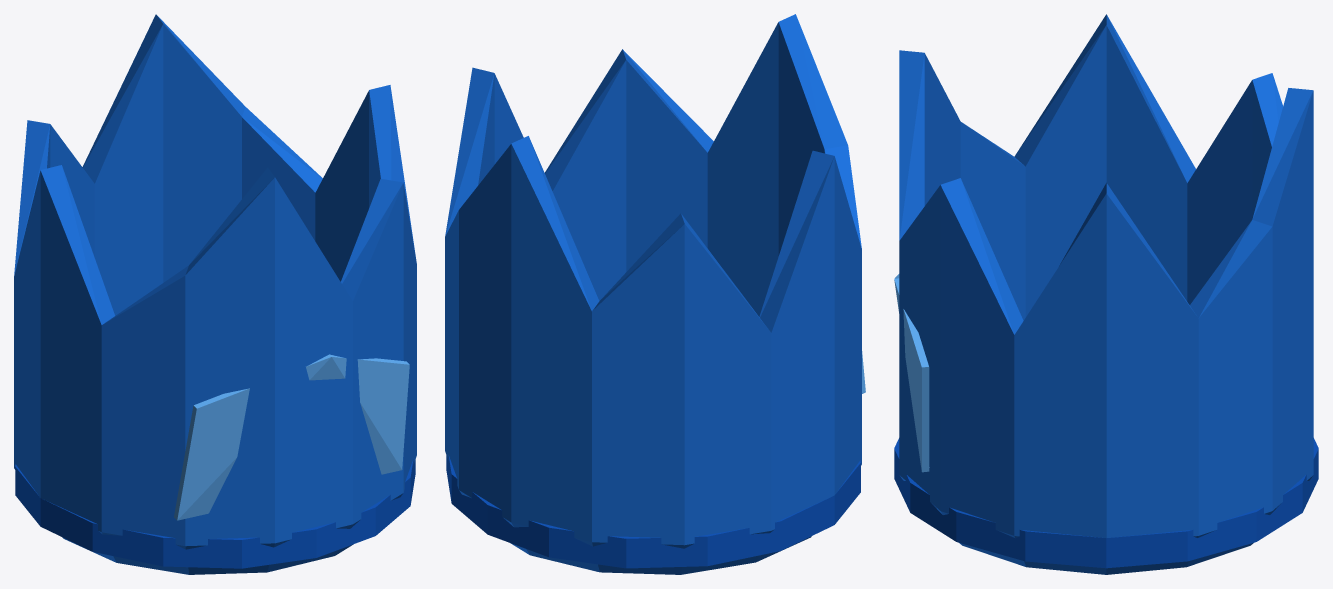
File: Glass_BrokenBottle.fbx
3 views of the same model, side by side, from view 1: azimuth 30°, elevation 25°; view 2: azimuth 150°, elevation 25°; view 3: azimuth 270°, elevation 25° (orthographic). The views are drawn at different scales.
Visible parts, largest first — view 1: Glass_BrokenBottle; view 2: Glass_BrokenBottle; view 3: Glass_BrokenBottle.
Boxes of the visible parts, bbox=[...] form: Glass_BrokenBottle: bbox=[14, 14, 416, 574]; Glass_BrokenBottle: bbox=[445, 14, 865, 574]; Glass_BrokenBottle: bbox=[894, 14, 1318, 574].
Size of the model in its own units: 63.14 by 70 by 63.14.
